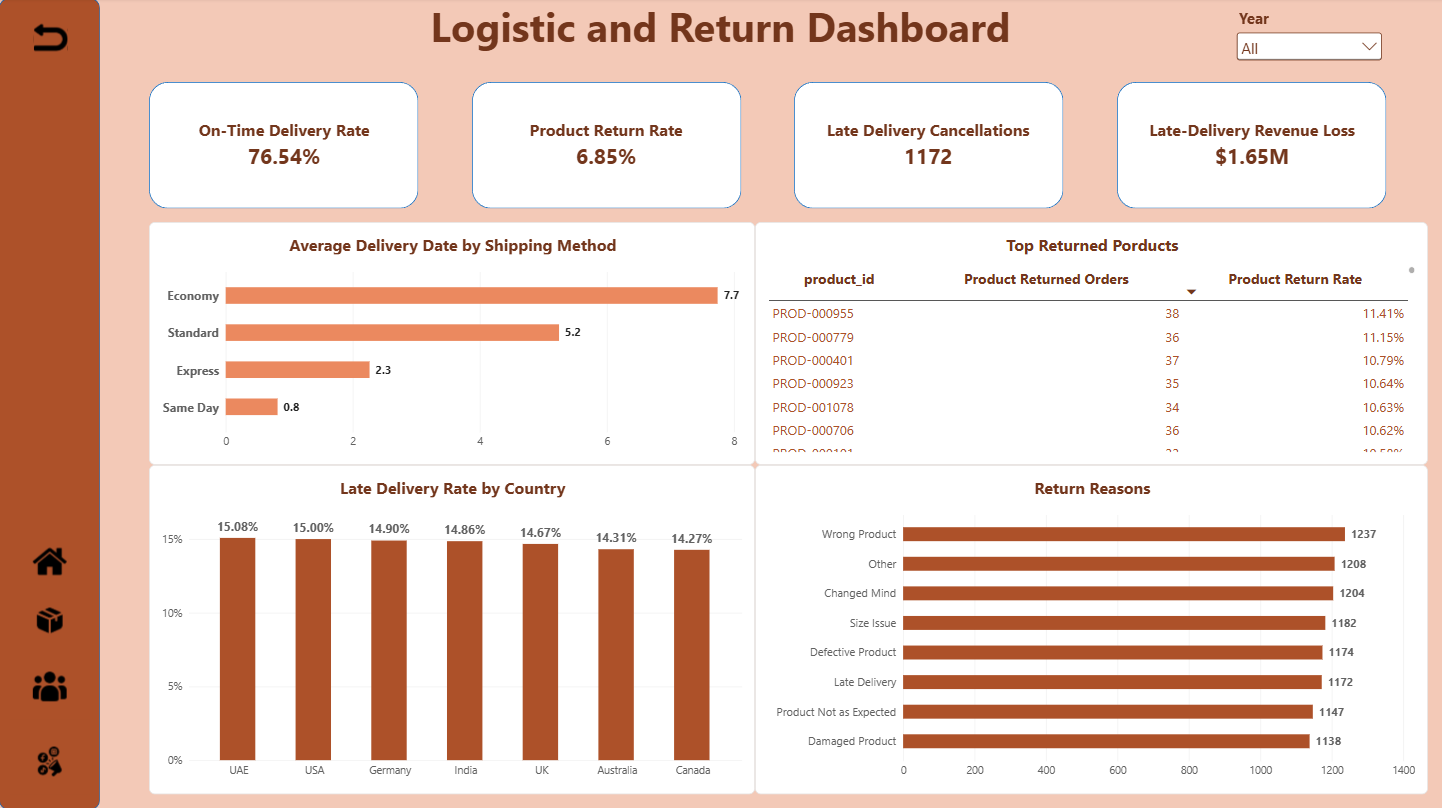

The page's visual inventory and layout, read from the dashboard file:
{"tool":"powerbi","page":{"name":"Logistic and Return Dashboard","canvas":[1920,1080],"ordinal":3},"visuals":[{"type":"shape","box":[1057.8,111.7,358.3,168.3],"z":0},{"type":"shape","box":[200,111.7,358.3,168.3],"z":1000},{"type":"textbox","box":[423.3,0,1073.3,170],"z":2000},{"type":"shape","box":[0,0,134.3,1080],"z":3000},{"type":"cardVisual","fields":{"Data":["Measure Table.% Delivery on time"]},"box":[233.3,126.7,293.3,136.7],"z":4000},{"type":"shape","box":[628.9,111.7,358.3,168.3],"z":5000},{"type":"cardVisual","fields":{"Data":["Measure Table.Product Return Rate"]},"box":[636.7,126.7,341.7,136.7],"z":6000},{"type":"cardVisual","fields":{"Data":["Measure Table.Orders Canceled for Latency Reason"]},"box":[1026.7,126.7,418.3,136.7],"z":7000},{"type":"shape","box":[1486.7,111.7,358.3,168.3],"z":8000},{"type":"cardVisual","fields":{"Data":["Measure Table.Late-Delivery Revenue Loss"]},"box":[1473.3,143.3,386.7,103.3],"z":9000},{"type":"clusteredBarChart","title":"Average Delivery Date by Shipping Method","fields":{"Category":["sales.shipping_method"],"Y":["Measure Table.Average Delivery Time"]},"box":[199.2,298,806.3,323.1],"z":10000},{"type":"tableEx","title":"Top Returned Porducts","fields":{"Values":["products.product_id","Measure Table.Product Returned Orders","Measure Table.Return Rate"]},"box":[1005.5,297.9,895.1,323.2],"z":11000},{"type":"slicer","title":"Year","fields":{"Values":["Calendar.Year"]},"box":[1641.7,11.7,202.6,99.8],"z":12000},{"type":"actionButton","box":[12,704.9,111.7,88.3],"z":13000},{"type":"actionButton","box":[12,783.4,111.7,88.3],"z":14000},{"type":"clusteredColumnChart","title":"Late Delivery Rate by Country","fields":{"Category":["customer.customer_country"],"Y":["Measure Table.Late Delivery Rate"]},"box":[199.5,621.1,806,437.6],"z":15000},{"type":"clusteredBarChart","title":"Return Reasons","fields":{"Category":["sales.return_reason"],"Y":["Measure Table.Returned Orders"]},"box":[1005.5,621.1,895.1,437.6],"z":16000},{"type":"actionButton","box":[12,970.9,111.7,88.3],"z":17000},{"type":"actionButton","box":[12,871.2,111.7,88.3],"z":18000},{"type":"actionButton","box":[13.3,8,111.7,88.3],"z":18001}]}

Visuals, with their boxes on the page's 1920x1080 design canvas (x1, y1, x2, y2). These are canvas units, not pixel positions in the 1442x808 screenshot, which may show the page scaled, cropped or inside an application window:
shape: (x1=1058, y1=112, x2=1416, y2=280)
shape: (x1=200, y1=112, x2=558, y2=280)
textbox: (x1=423, y1=0, x2=1497, y2=170)
shape: (x1=0, y1=0, x2=134, y2=1080)
cardVisual - Measure Table.% Delivery on time: (x1=233, y1=127, x2=527, y2=263)
shape: (x1=629, y1=112, x2=987, y2=280)
cardVisual - Measure Table.Product Return Rate: (x1=637, y1=127, x2=978, y2=263)
cardVisual - Measure Table.Orders Canceled for Latency Reason: (x1=1027, y1=127, x2=1445, y2=263)
shape: (x1=1487, y1=112, x2=1845, y2=280)
cardVisual - Measure Table.Late-Delivery Revenue Loss: (x1=1473, y1=143, x2=1860, y2=247)
"Average Delivery Date by Shipping Method" clusteredBarChart: (x1=199, y1=298, x2=1006, y2=621)
"Top Returned Porducts" tableEx: (x1=1006, y1=298, x2=1901, y2=621)
"Year" slicer: (x1=1642, y1=12, x2=1844, y2=112)
actionButton: (x1=12, y1=705, x2=124, y2=793)
actionButton: (x1=12, y1=783, x2=124, y2=872)
"Late Delivery Rate by Country" clusteredColumnChart: (x1=200, y1=621, x2=1006, y2=1059)
"Return Reasons" clusteredBarChart: (x1=1006, y1=621, x2=1901, y2=1059)
actionButton: (x1=12, y1=971, x2=124, y2=1059)
actionButton: (x1=12, y1=871, x2=124, y2=960)
actionButton: (x1=13, y1=8, x2=125, y2=96)
